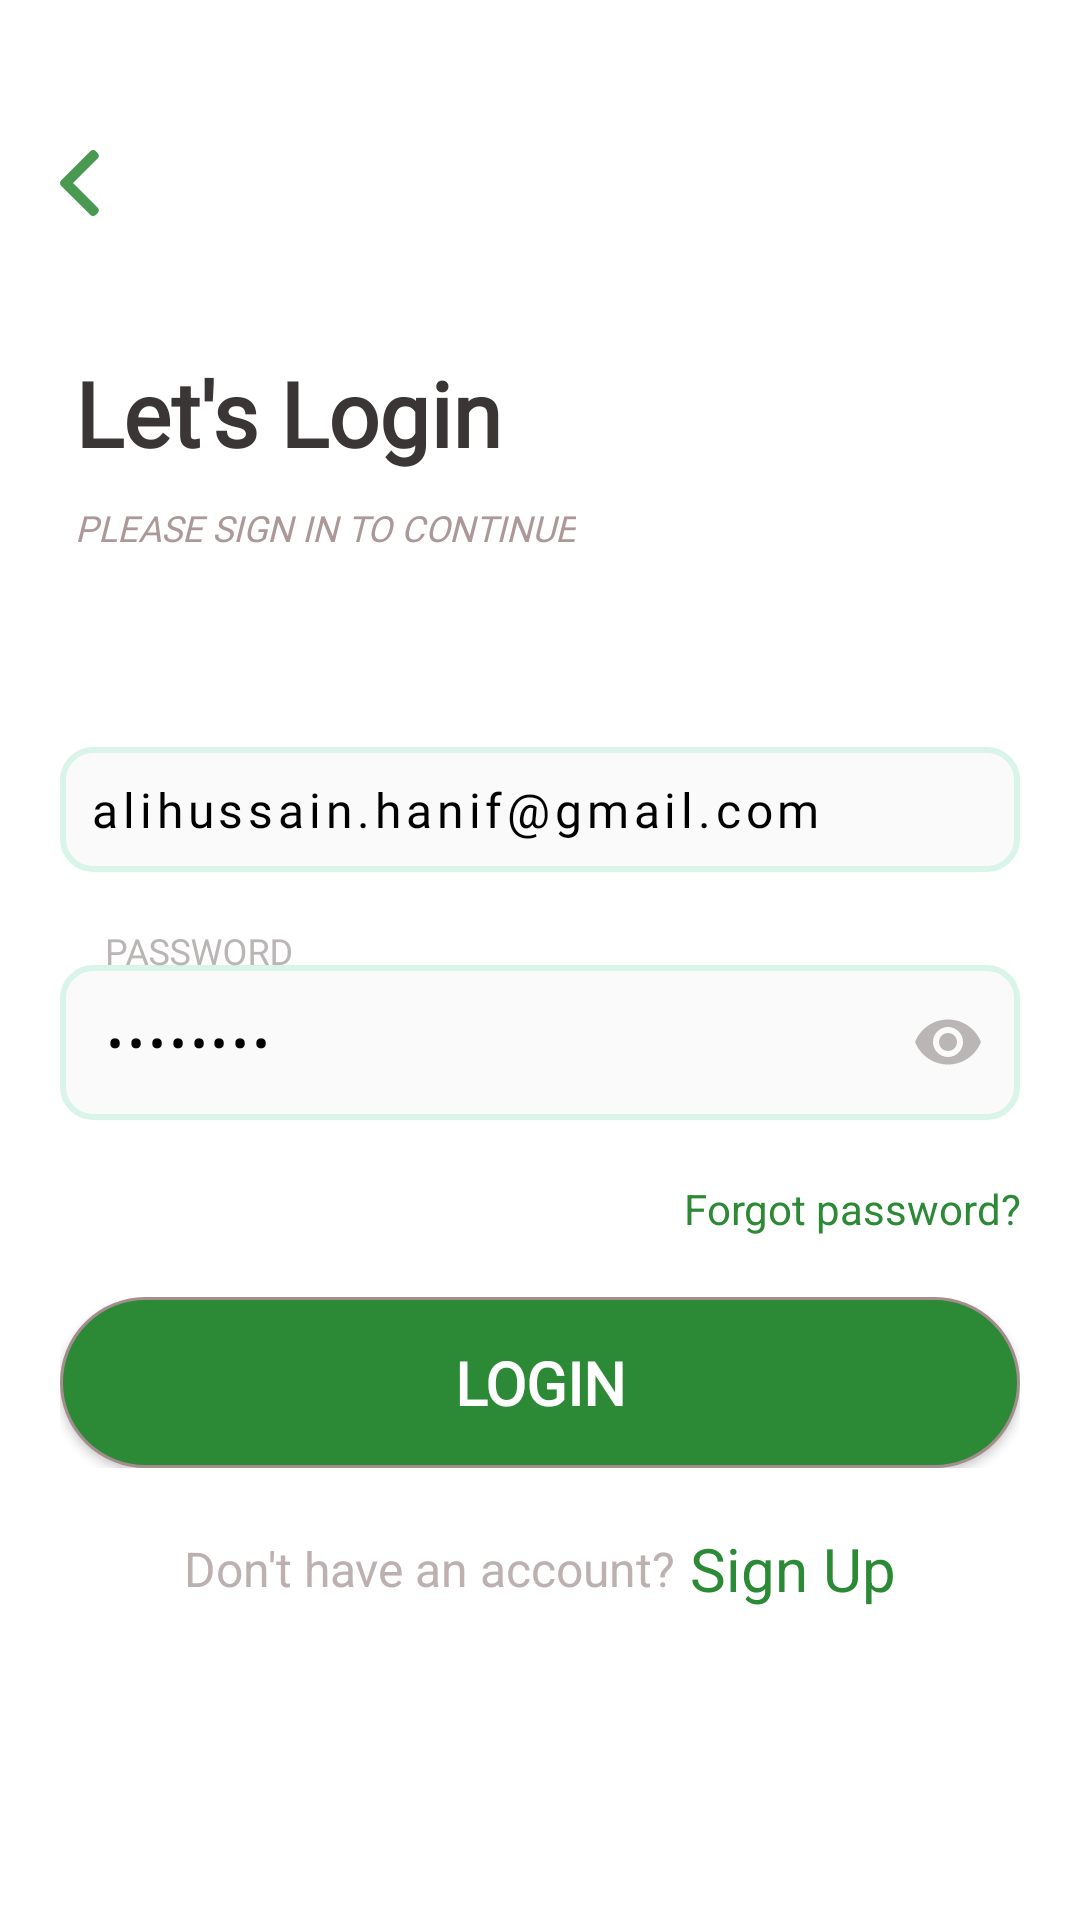

Icon bounding boxes for this 1080px×1920px phone screenshot, format (x1, y1, x2, y2):
arrow: (60, 150, 99, 216)
